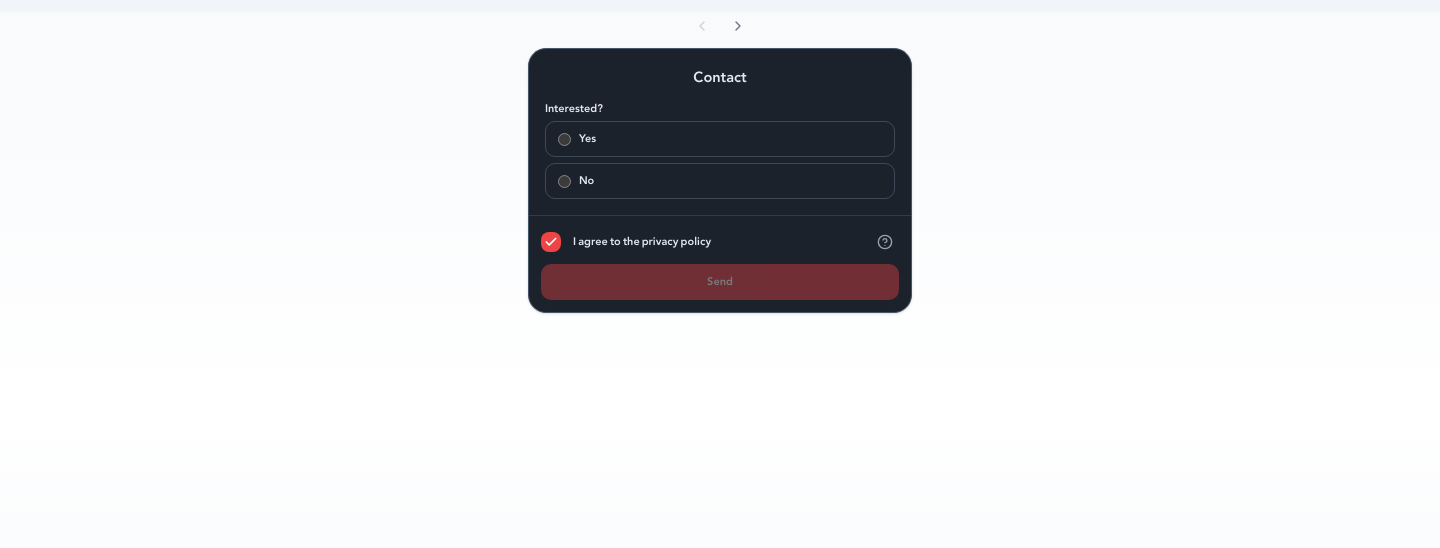
Scenario: Form layout builder › shows conditional questions only for the matching visible source answer
This screenshot has width=1440, height=548.
Expected: the field labelled "Details" is not shown
Click the radio button labelled "Yes": [564, 139] box [558,132,571,146]
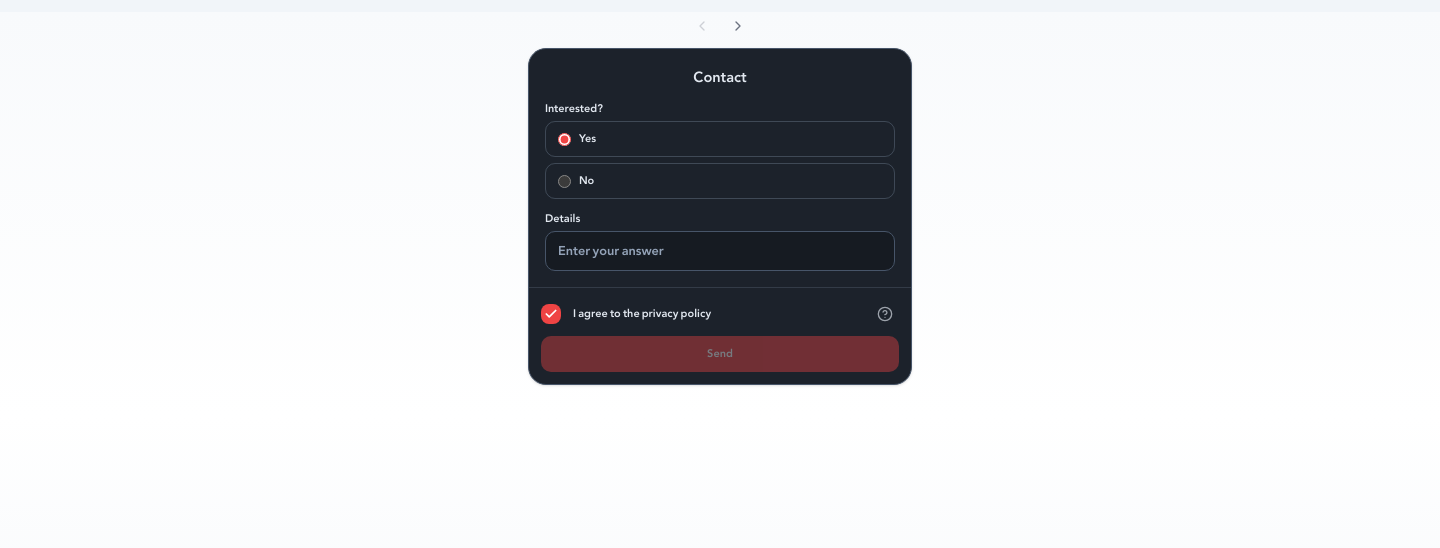
Result: the field named "Details" is shown at [545,231,895,271]
Click the radio button labelled "No": [564, 181] box [558,174,571,188]
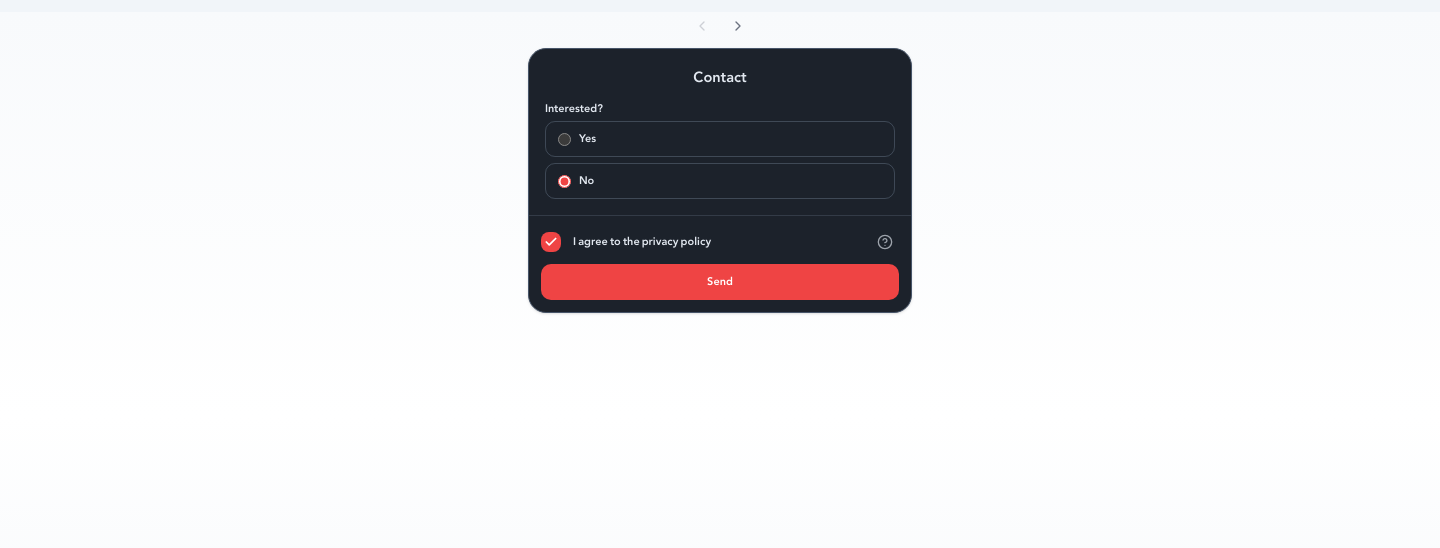
Result: the text "Details" is gone
